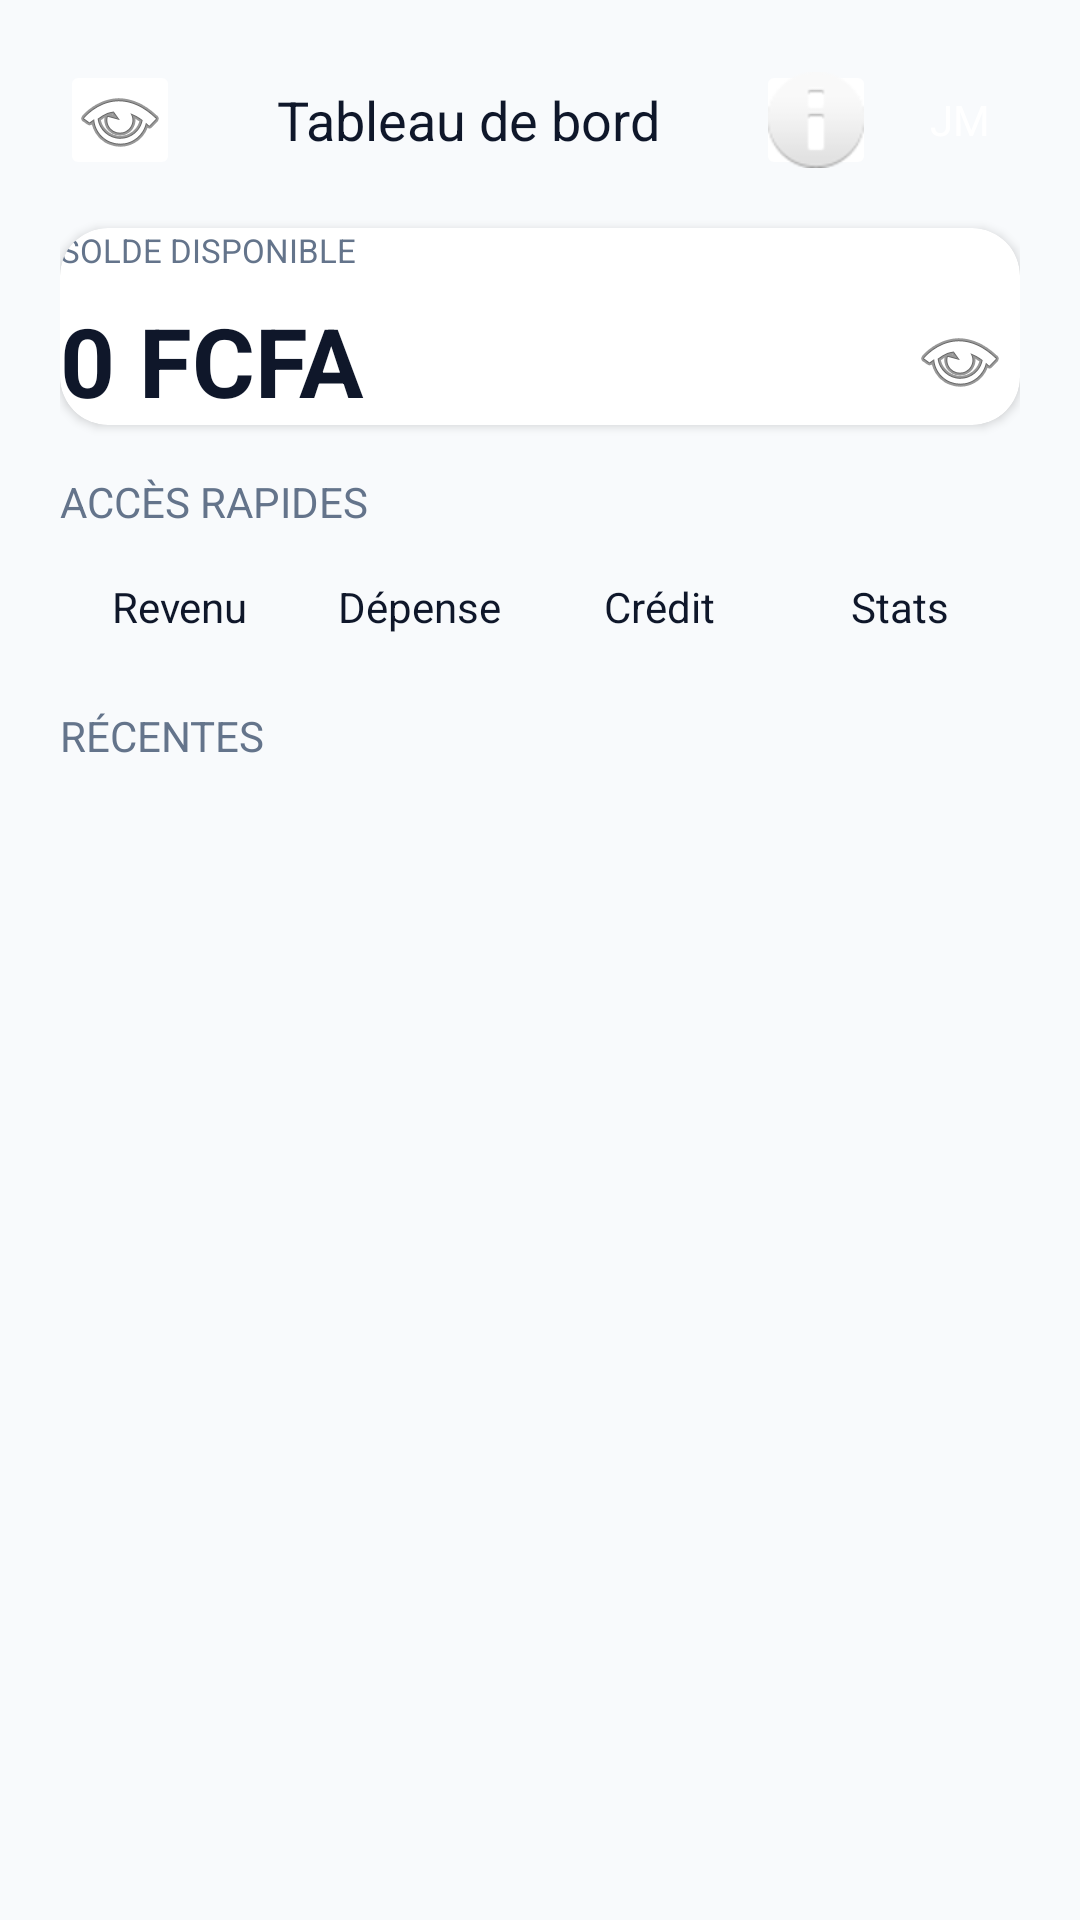

Icons on this 1080px×1920px Android screen, each with the point to tap as point (x, y):
Afficher le solde: point (960, 362)
info: point (816, 129)
view: point (120, 122)
